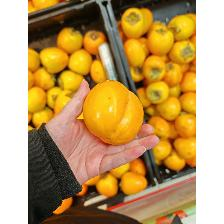Kaki: (82, 79, 144, 147)
